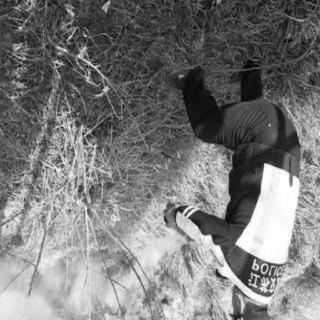Fire: (79, 251, 217, 319), (10, 238, 108, 286)
Smoke: (73, 268, 97, 298), (4, 288, 24, 314), (30, 296, 53, 318)
other: (176, 166, 304, 294)
